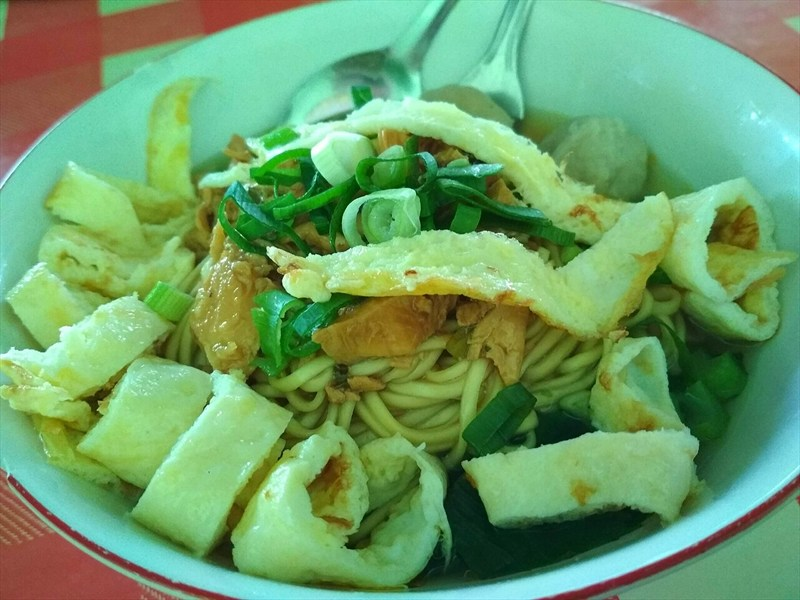Bakso: (92, 99, 703, 586)
